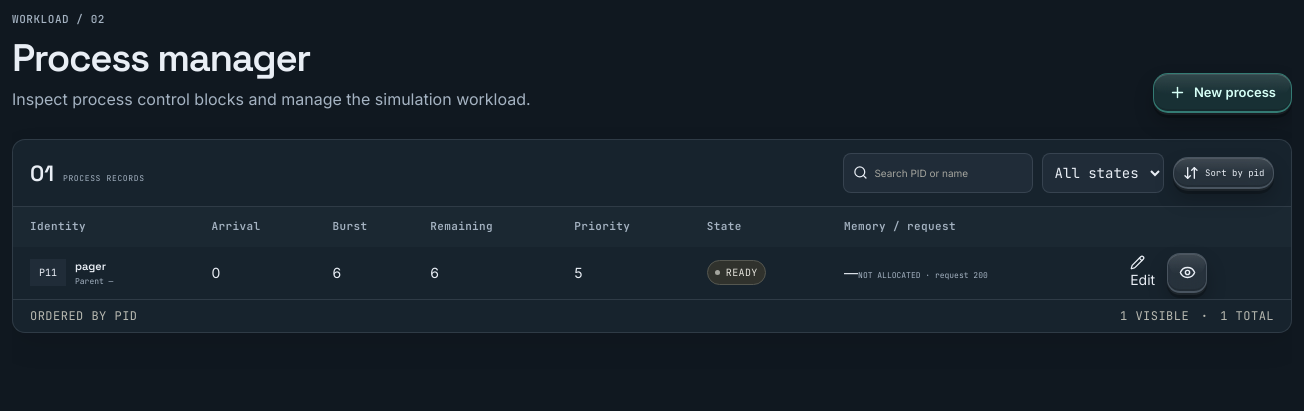
Scenario: core workspace pages › opens process inspection and filters the process table
Expected: the text "pager" is shown, [75,260,106,274]
Type "not-a-process" into the field named "Search processes" at {"x": 948, "y": 173}, box [874,165,1023,181]
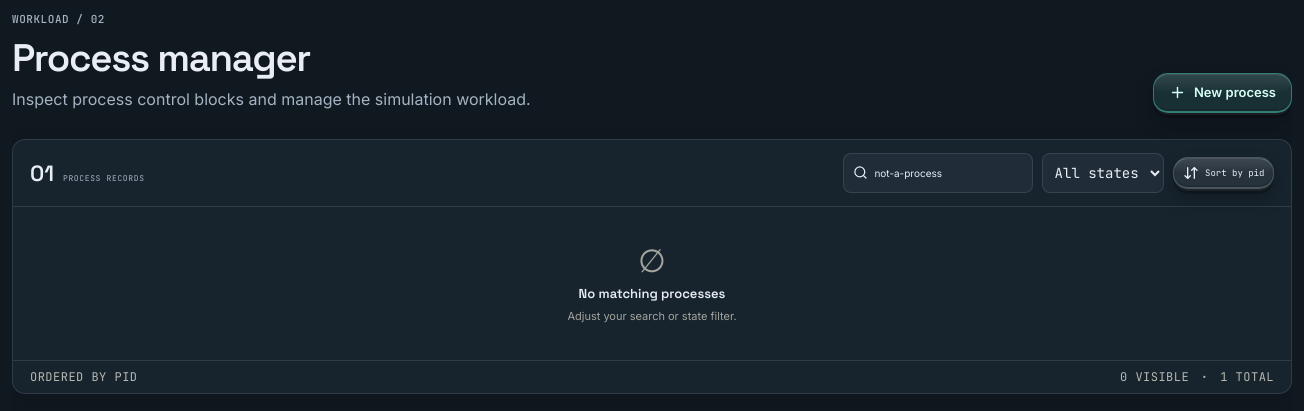
Result: the text "No matching processes" is shown at [579,285,726,302]
